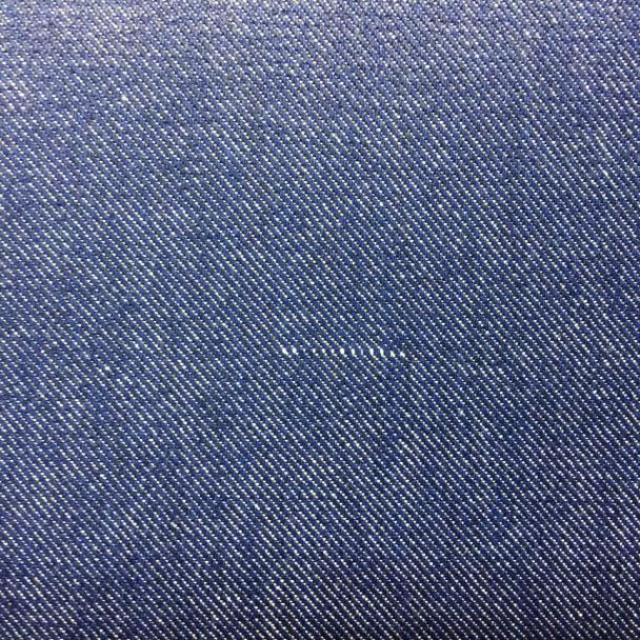Knot: (280, 346, 407, 362)
